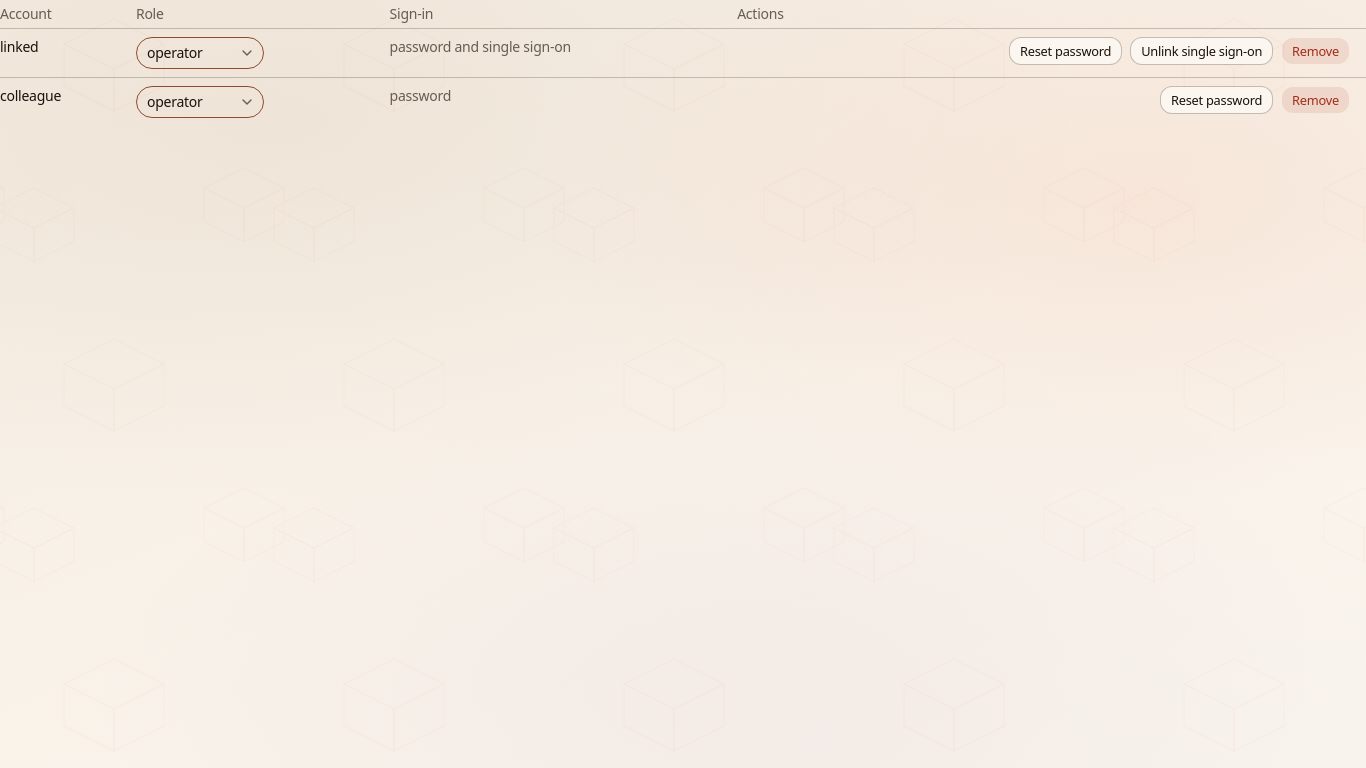
Test case: the accounts table › warns that nothing can be linked again when there are several people
Click the button "Unlink single sign-on".
click(1202, 51)  # box [1130,37,1273,65]
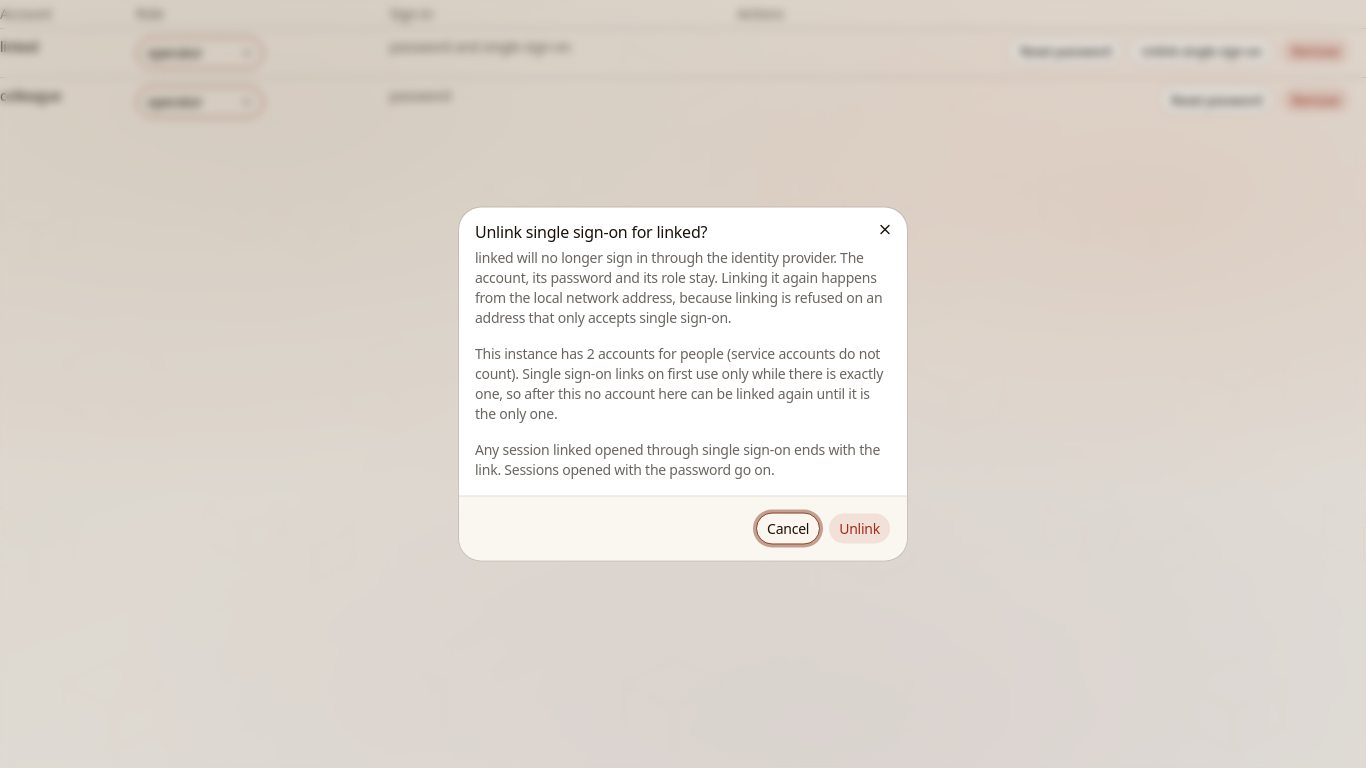
Expected: the text "no account here can be linked again" is shown, [475,344,883,422]
Expected: the text "2 accounts for people" is shown, [475,344,891,424]
